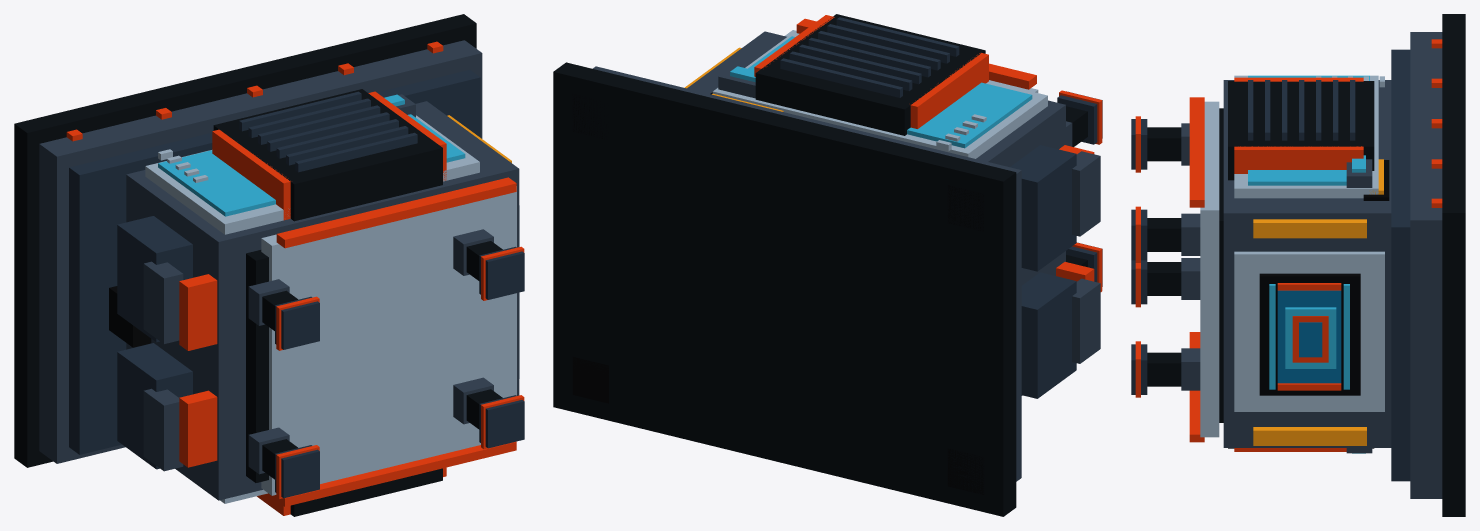
The model's file is AdvancedAlloyFoundry.obj.
The picture shows the model from 3 angles, left to right: view 1: azimuth 30°, elevation 25°; view 2: azimuth 150°, elevation 25°; view 3: azimuth 270°, elevation 25°; orthographic projection. The views are drawn at different scales.
Parts seen in each view (by area): view 1: SM_AdvancedAlloyFoundry; view 2: SM_AdvancedAlloyFoundry; view 3: SM_AdvancedAlloyFoundry.
Boxes of the visible parts, left/top/right/bottom form: SM_AdvancedAlloyFoundry: left=14, top=14, right=524, bottom=516; SM_AdvancedAlloyFoundry: left=553, top=14, right=1102, bottom=516; SM_AdvancedAlloyFoundry: left=1131, top=14, right=1465, bottom=516.
Size of the model in its own units: 444 by 330 by 315.
